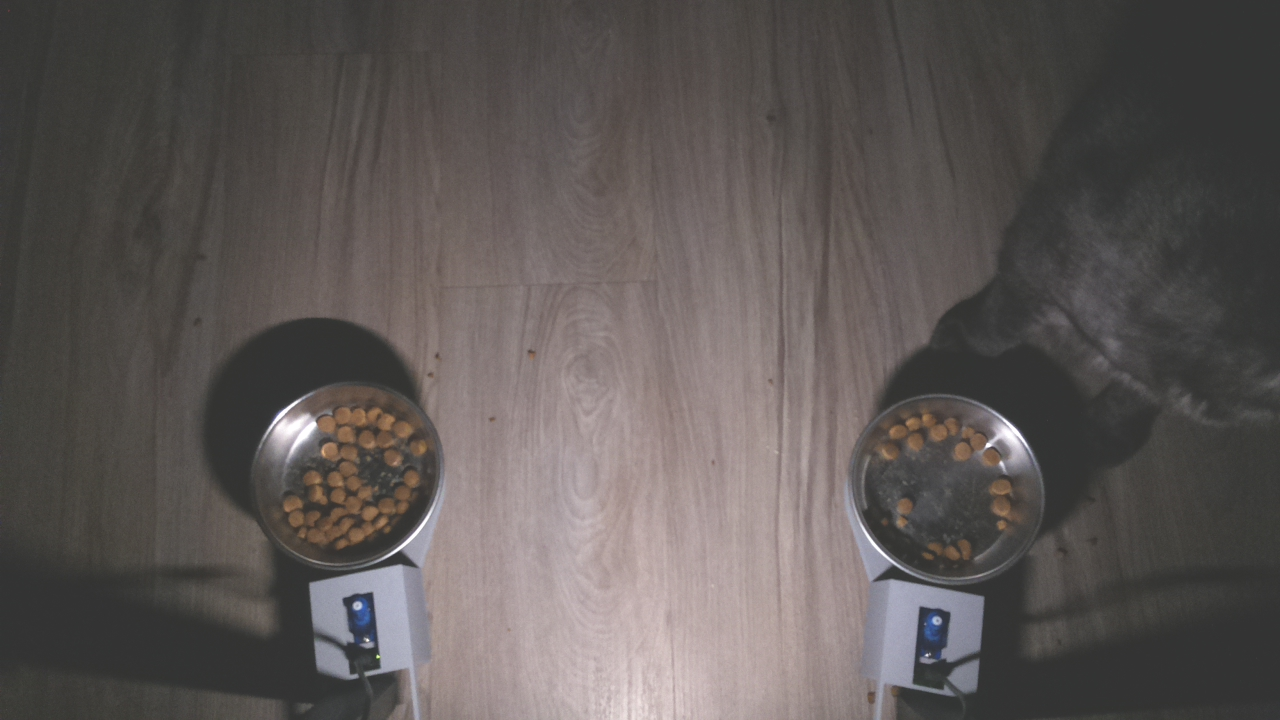open_bowl: (856, 385, 1049, 592), (250, 373, 444, 568)
